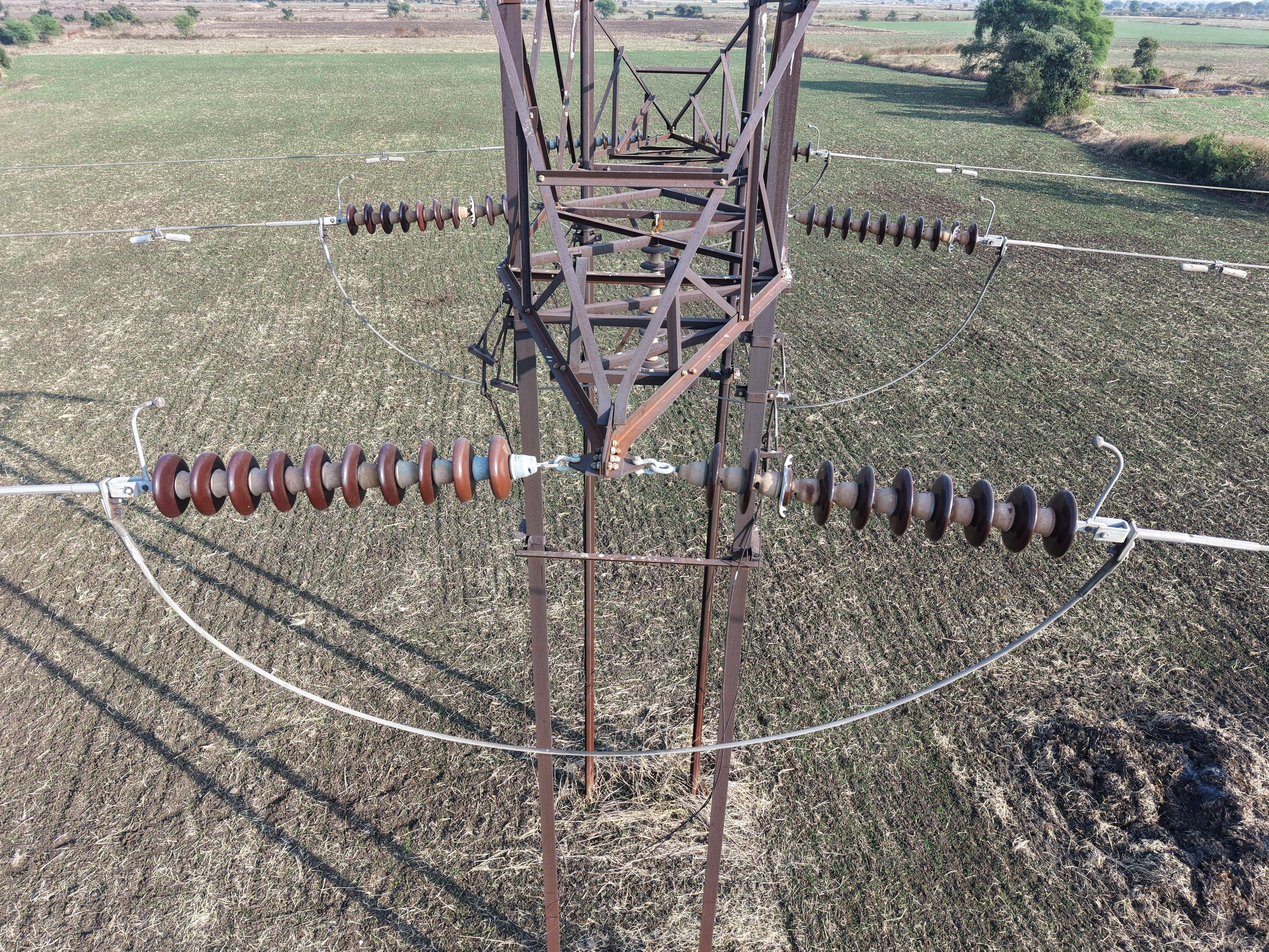broken_insulator: (776, 452, 795, 520), (947, 221, 960, 255), (467, 194, 478, 228)
